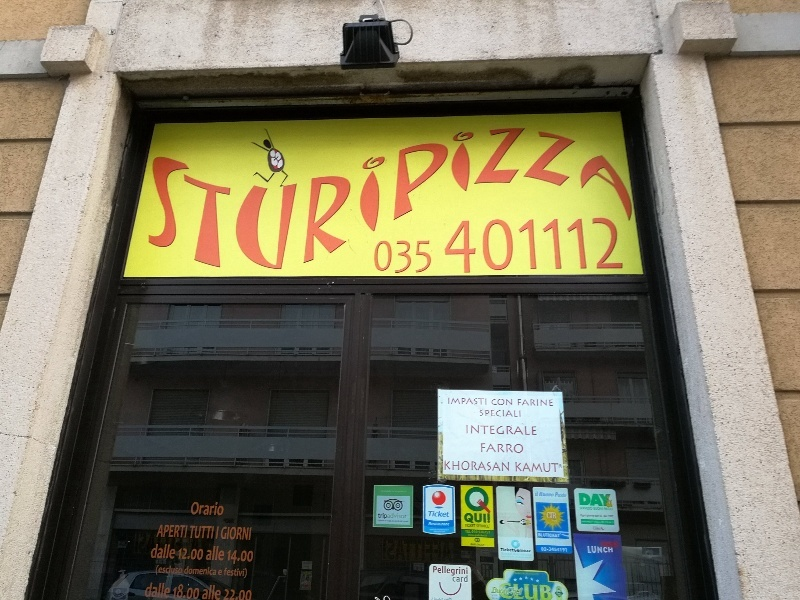text: (161, 116, 176, 294), (177, 116, 192, 294), (193, 116, 208, 294), (209, 116, 224, 294), (225, 116, 240, 294), (241, 116, 256, 294), (257, 116, 272, 294), (273, 116, 288, 294), (289, 116, 304, 294), (305, 116, 320, 294), (321, 116, 336, 294), (337, 116, 352, 294), (353, 116, 368, 294), (369, 116, 384, 294), (385, 116, 400, 294), (401, 116, 416, 294), (417, 116, 432, 294), (433, 116, 448, 294), (449, 116, 464, 294), (465, 116, 480, 294), (481, 116, 496, 294), (497, 116, 512, 294), (513, 116, 528, 294), (529, 116, 544, 294), (545, 116, 560, 294), (561, 116, 576, 294), (577, 116, 592, 294), (593, 116, 608, 294), (609, 116, 624, 294), (625, 116, 637, 294), (152, 116, 160, 294), (609, 215, 625, 274), (449, 215, 464, 274), (465, 215, 480, 274), (481, 215, 496, 274), (497, 215, 512, 274), (513, 215, 528, 274), (529, 215, 544, 274), (545, 215, 560, 274), (561, 215, 576, 274), (577, 215, 592, 274), (593, 215, 608, 274), (417, 241, 433, 275), (385, 241, 400, 275), (401, 241, 416, 275), (374, 241, 384, 275), (513, 582, 528, 600), (529, 582, 544, 600), (209, 545, 224, 562), (177, 583, 192, 600), (209, 502, 225, 517), (161, 544, 177, 559), (444, 215, 448, 274), (193, 502, 208, 517), (161, 524, 176, 539), (193, 525, 208, 540), (225, 526, 240, 541), (500, 582, 512, 600), (593, 493, 608, 507), (227, 550, 240, 566), (241, 550, 254, 566), (209, 584, 222, 600), (148, 582, 160, 599), (225, 567, 240, 580), (161, 582, 172, 599), (579, 493, 592, 507), (449, 460, 464, 472), (465, 460, 480, 472), (481, 460, 496, 472), (177, 524, 189, 539), (241, 526, 253, 541), (161, 564, 176, 576), (179, 548, 192, 561), (481, 425, 496, 436), (497, 425, 512, 436), (513, 425, 528, 436), (481, 443, 496, 454), (497, 443, 512, 454), (529, 462, 544, 473), (465, 513, 480, 524), (433, 566, 448, 577), (449, 566, 464, 577), (209, 525, 220, 540), (193, 566, 208, 577), (225, 589, 240, 600), (545, 582, 554, 600), (497, 460, 510, 472), (193, 548, 205, 561), (466, 425, 480, 436), (545, 462, 559, 473), (497, 587, 512, 597), (515, 462, 528, 473), (193, 583, 201, 600), (241, 589, 253, 600), (513, 443, 524, 454), (449, 398, 464, 406), (465, 398, 480, 406), (529, 399, 544, 407), (481, 410, 496, 418), (497, 410, 512, 418), (385, 512, 400, 520), (593, 546, 608, 554), (152, 544, 160, 559), (497, 399, 513, 406), (546, 512, 560, 520), (481, 513, 491, 524), (513, 587, 524, 597), (433, 511, 448, 518), (513, 553, 528, 560), (545, 546, 560, 553), (529, 425, 538, 436), (209, 566, 218, 577), (241, 567, 248, 580), (453, 576, 464, 584), (518, 399, 528, 407), (203, 584, 208, 600), (501, 553, 512, 560), (185, 566, 192, 577), (433, 522, 448, 527), (513, 548, 528, 553), (545, 533, 560, 538), (545, 399, 554, 407), (513, 540, 521, 549), (177, 564, 183, 576), (513, 410, 521, 418), (465, 524, 480, 528), (433, 529, 448, 533), (465, 530, 480, 534), (500, 548, 512, 553), (545, 491, 555, 497), (593, 507, 608, 511), (593, 514, 608, 518), (593, 520, 608, 524), (593, 526, 608, 530), (481, 530, 491, 535), (561, 546, 568, 553), (481, 398, 487, 406), (444, 460, 448, 472), (378, 512, 384, 520), (401, 512, 407, 520), (156, 564, 160, 576), (218, 569, 224, 577), (580, 507, 592, 511), (580, 514, 592, 518), (481, 524, 490, 529), (535, 492, 544, 497), (465, 566, 469, 577), (609, 493, 612, 507), (470, 543, 480, 547), (587, 546, 592, 554), (609, 546, 614, 554), (582, 520, 592, 524), (471, 530, 480, 534), (468, 535, 480, 538), (561, 492, 567, 498), (174, 583, 176, 600), (465, 576, 469, 584), (474, 538, 480, 543), (555, 492, 560, 498), (538, 533, 544, 538), (493, 587, 496, 597), (190, 525, 192, 540), (222, 526, 224, 541), (492, 399, 496, 406), (428, 511, 432, 518), (540, 491, 544, 497), (481, 535, 488, 538), (529, 553, 532, 560), (541, 546, 544, 553), (476, 524, 480, 529), (609, 507, 614, 511), (609, 514, 614, 518), (207, 545, 208, 562), (225, 545, 226, 562), (481, 543, 485, 547), (429, 522, 432, 527), (529, 548, 532, 553), (191, 502, 192, 517), (429, 529, 432, 533), (609, 520, 612, 524), (478, 530, 480, 535), (511, 540, 512, 549), (449, 529, 451, 533), (449, 511, 450, 518), (449, 522, 450, 527), (561, 465, 562, 468)
